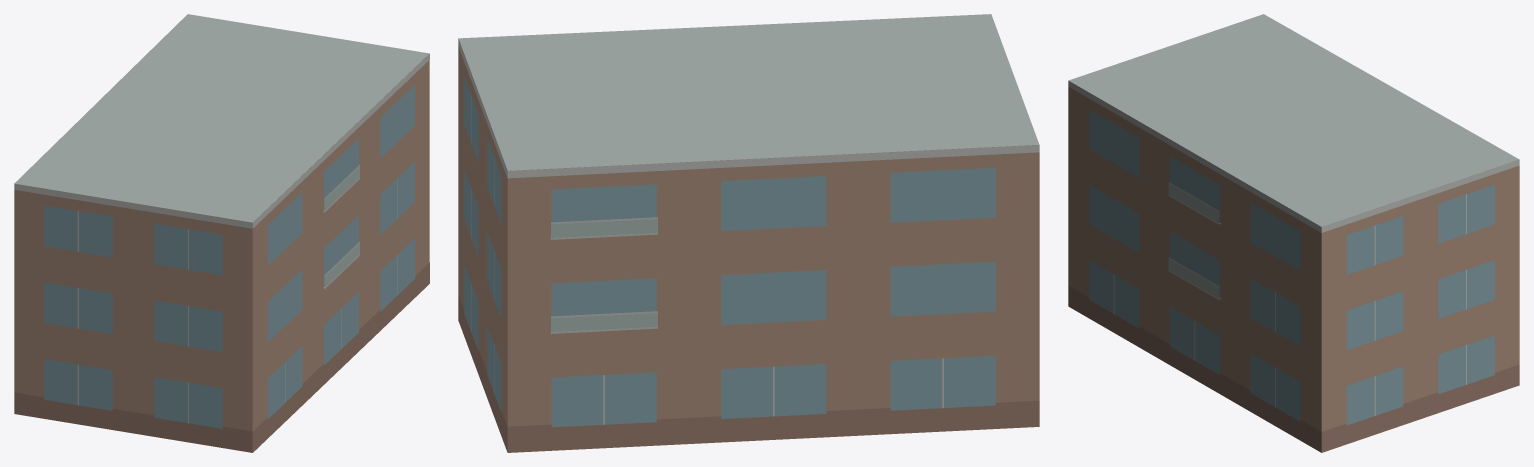
Rendered from survey-upis-32814710.glb.
The picture shows the model from 3 angles, left to right: view 1: azimuth 30°, elevation 25°; view 2: azimuth 150°, elevation 25°; view 3: azimuth 270°, elevation 25°; orthographic projection. The views are drawn at different scales.
Parts seen in each view (by area): view 1: survey-upis-32814710.tmp; view 2: survey-upis-32814710.tmp; view 3: survey-upis-32814710.tmp.
Boxes of the visible parts, x1=… form: survey-upis-32814710.tmp: x1=14, y1=14, x2=429, y2=452; survey-upis-32814710.tmp: x1=458, y1=14, x2=1039, y2=452; survey-upis-32814710.tmp: x1=1068, y1=14, x2=1519, y2=452.
Size of the model in its own units: 18.51 by 9.15 by 16.57.
